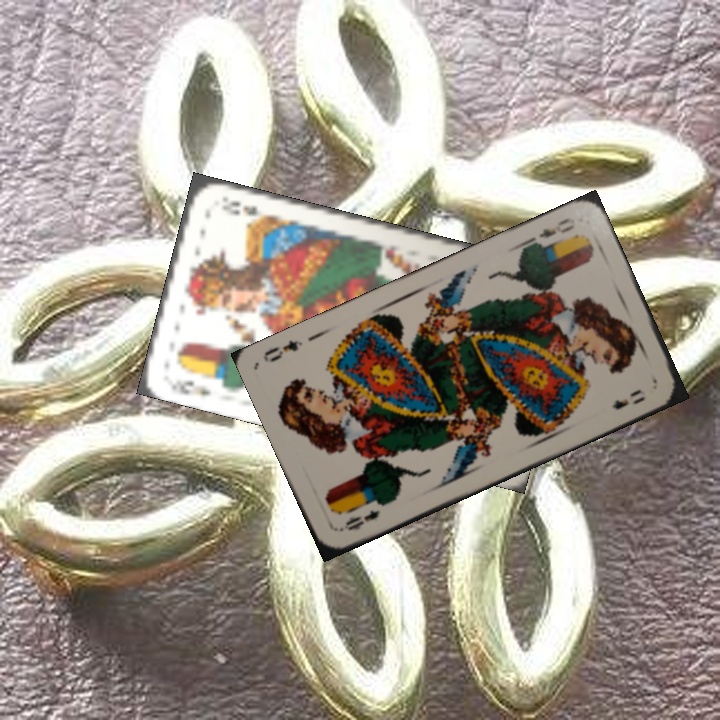EK: (164, 376, 214, 399)
EO: (525, 213, 578, 251), (336, 506, 382, 534)
